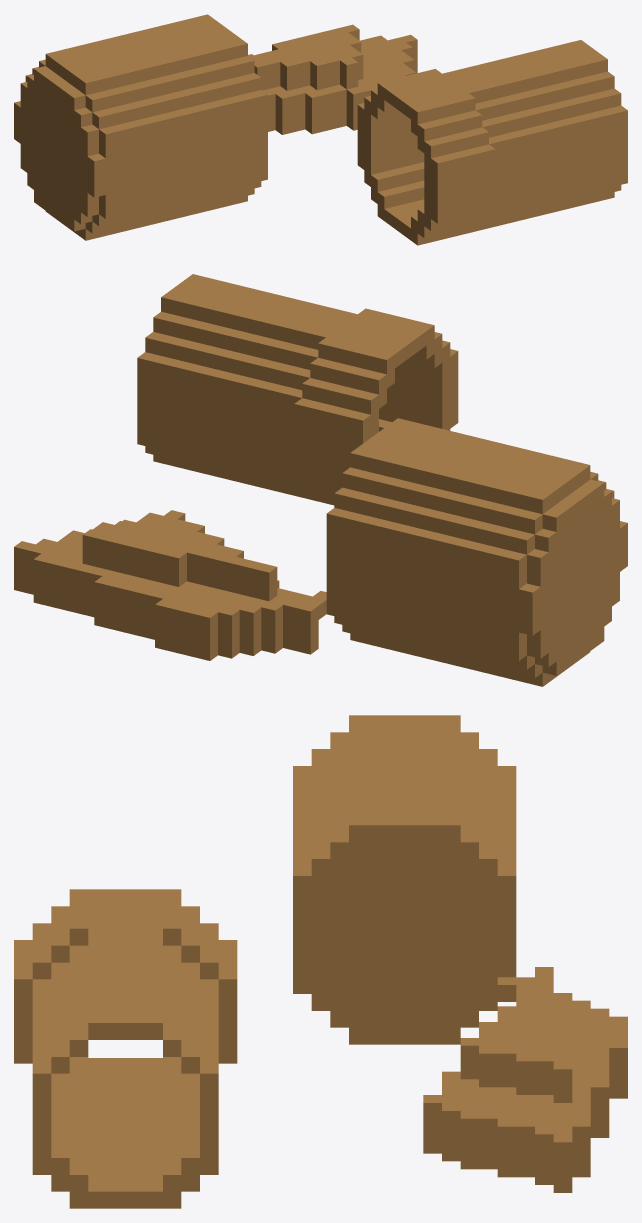
The model's file is scrap_brass.glb.
3 renders of one model, top to bottom at view 1: azimuth 30°, elevation 25°; view 2: azimuth 150°, elevation 25°; view 3: azimuth 270°, elevation 25°, orthographic. The views are drawn at different scales.
Parts seen in each view (by area): view 1: scrap_brass:compound; view 2: scrap_brass:compound; view 3: scrap_brass:compound.
Part boxes in pixels (box(x1,y1,x2,y2)): scrap_brass:compound: box(14, 14, 627, 245); scrap_brass:compound: box(14, 274, 627, 686); scrap_brass:compound: box(14, 715, 627, 1208).
Size of the model in its own units: 0.076 by 0.026 by 0.066.
